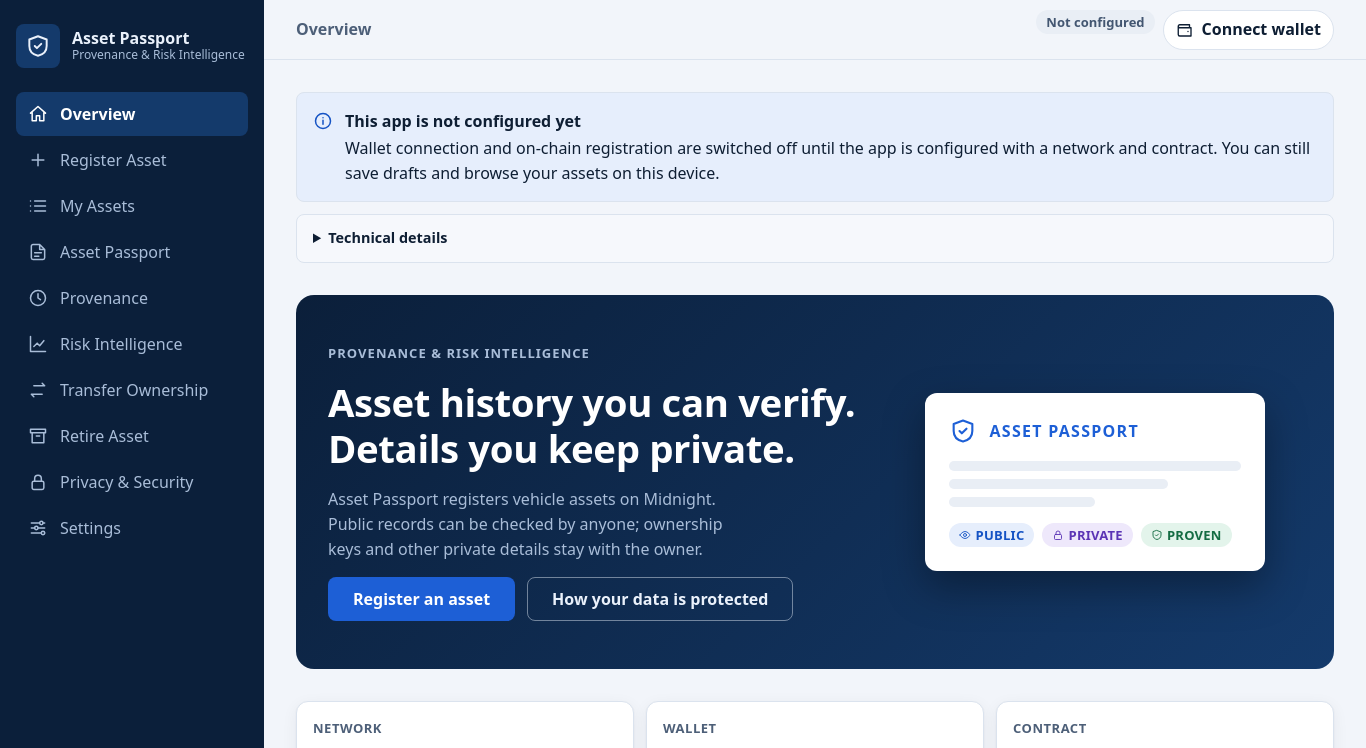
Test case: App shell › turns wallet connection off while unconfigured, even when a wallet is present
Step 1. Click the button "Connect wallet" → (1248, 30), box [1163,10,1334,50]
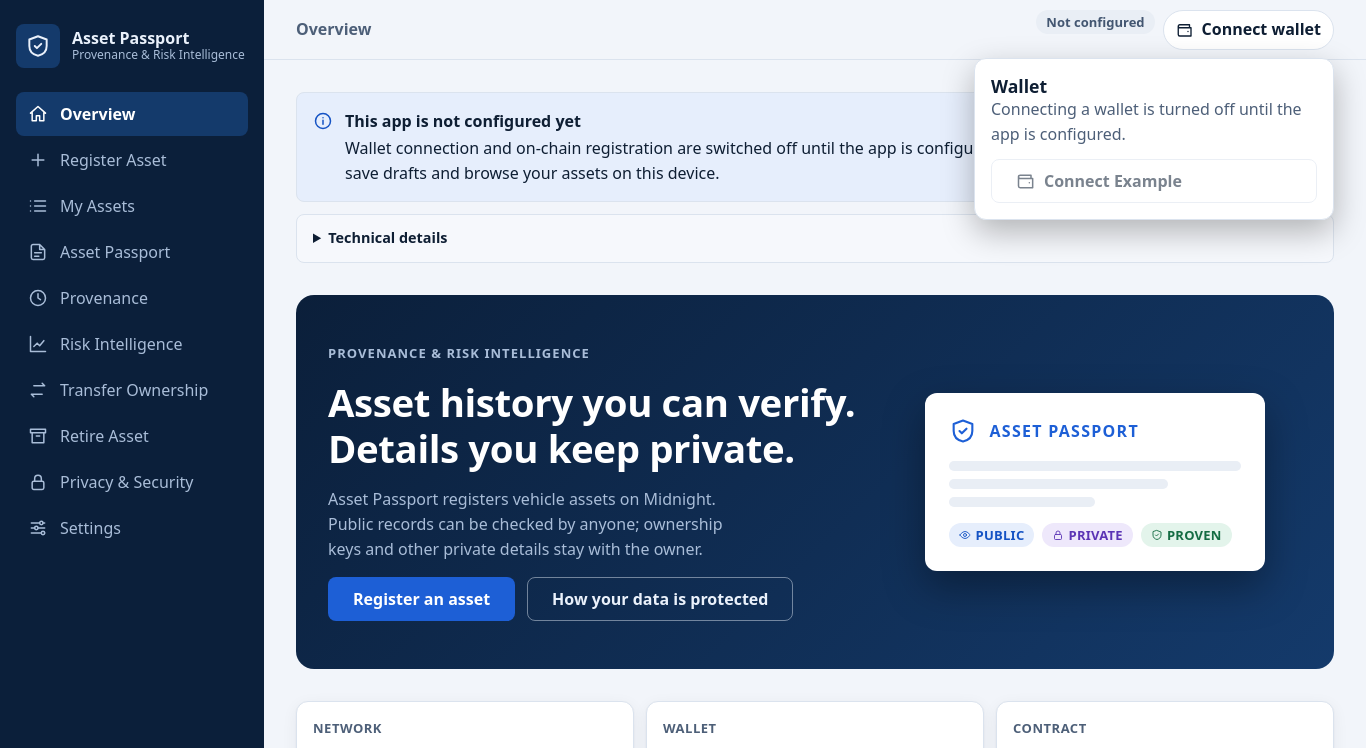
Check: the button "Connect Example" is disabled, box [991,159,1317,203]
Check: the text "turned off until the app is configured" is shown, box [991,98,1302,145]
